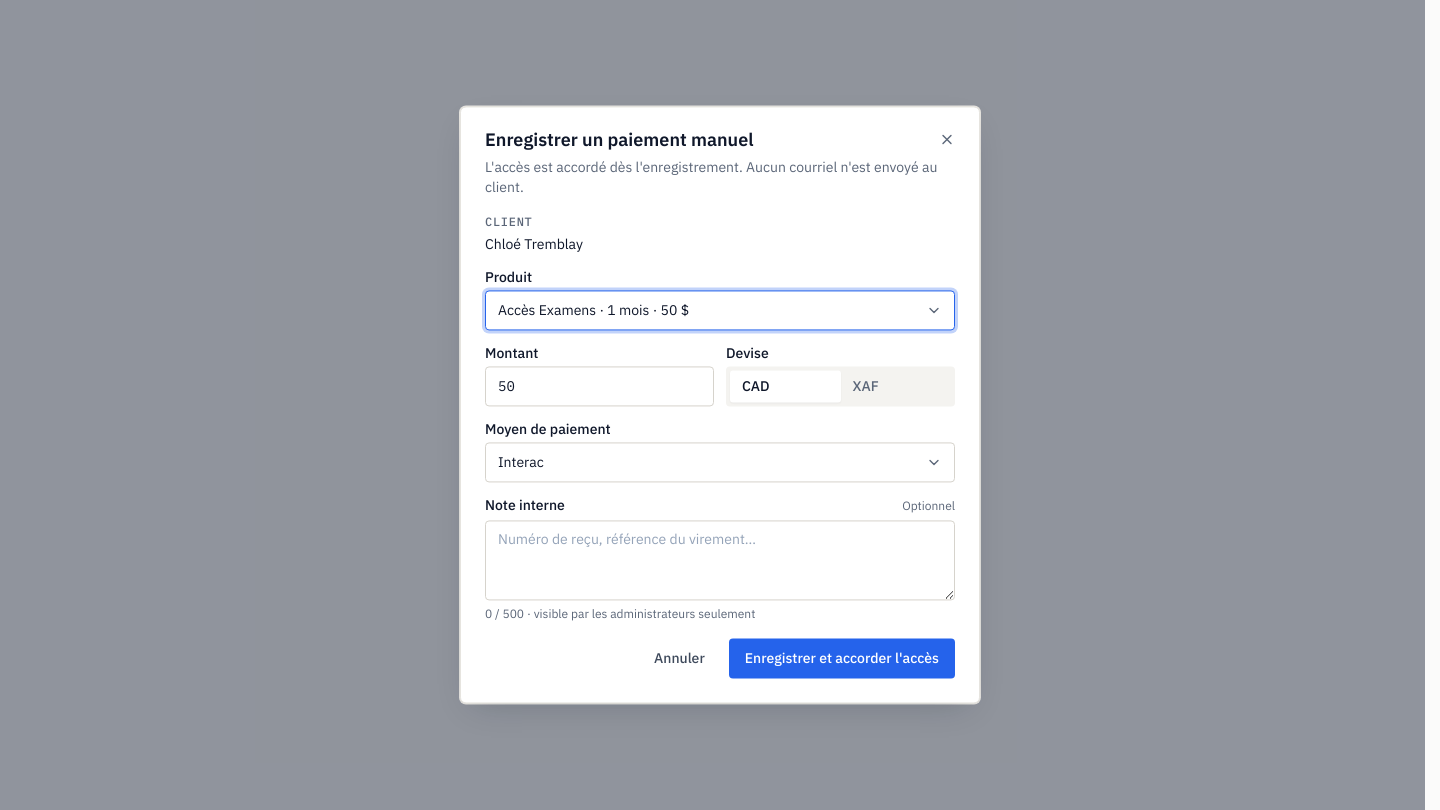
Scenario: ManualPaymentDialog › règle de la devise : entier en XAF
The width and height of the screenshot is (1440, 810).
Click the button "XAF" at (896, 387), box [840,371,951,403]
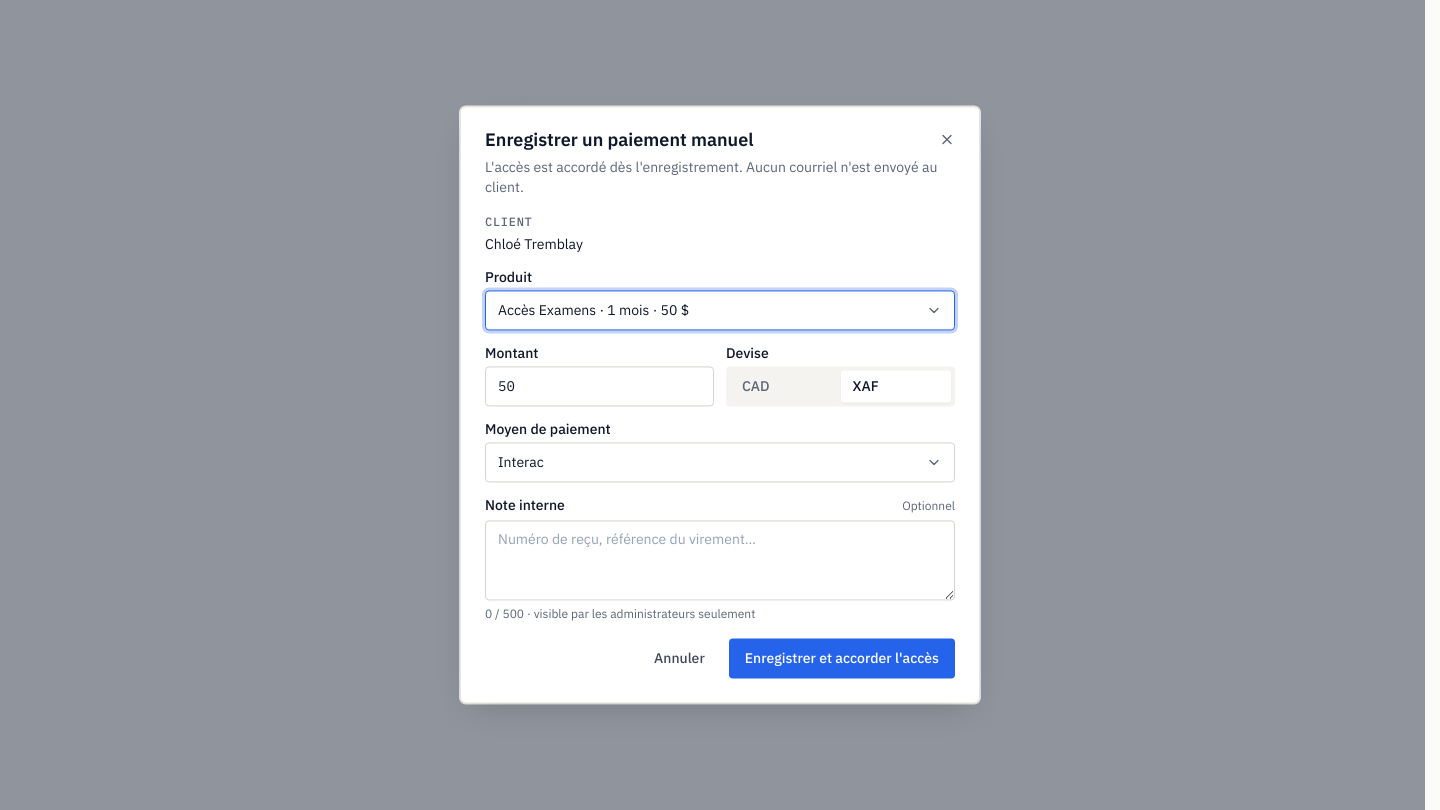
Replace the text in the field labelled "Montant" with "100,5" at (600, 387), box [485,367,714,407]
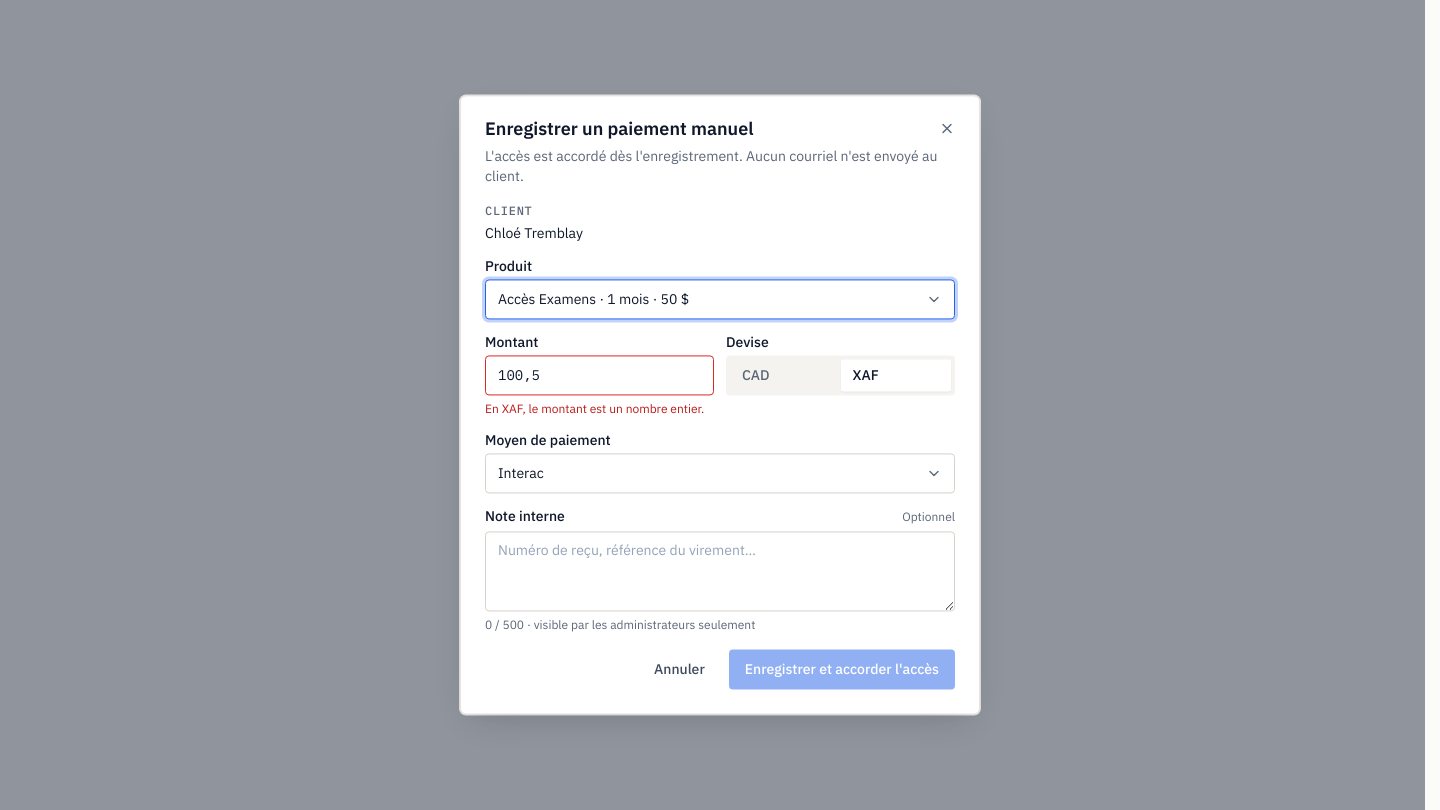
Now the text "En XAF, le montant est un nombre entier." is shown, box [485,402,714,418]
